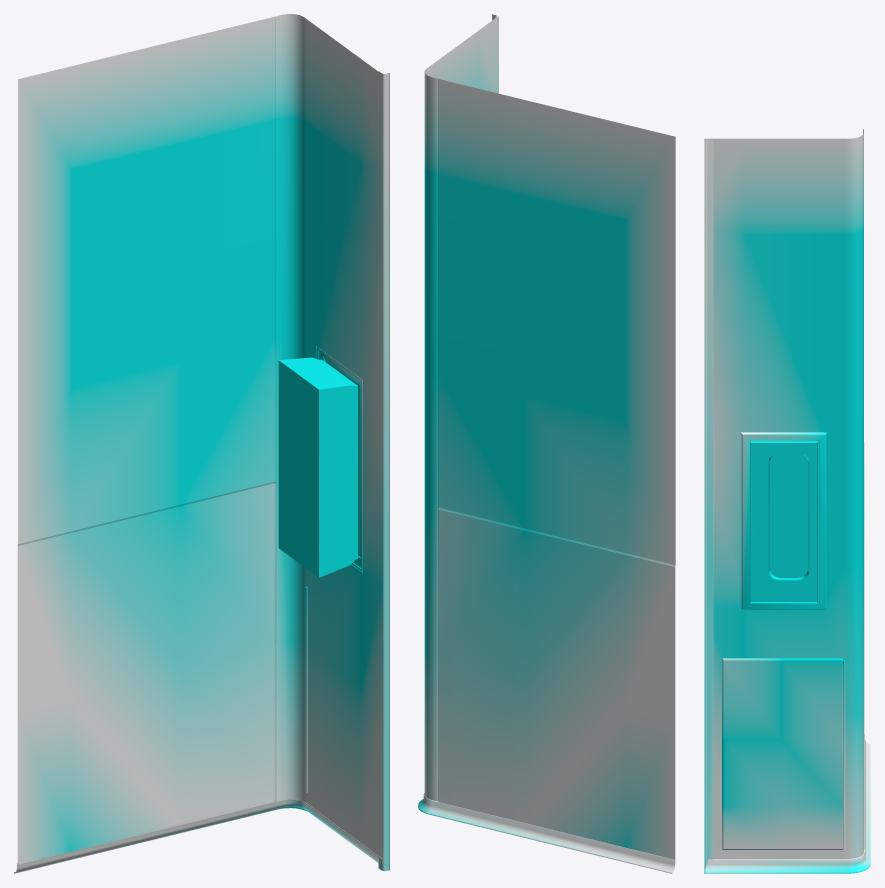
The model's file is SM_int_wall_endcorner_02.fbx.
The picture shows the model from 3 angles, left to right: view 1: azimuth 30°, elevation 25°; view 2: azimuth 150°, elevation 25°; view 3: azimuth 270°, elevation 25°; orthographic projection. The views are drawn at different scales.
Parts seen in each view (by area): view 1: SM_int_wall_endcorner_02; view 2: SM_int_wall_endcorner_02; view 3: SM_int_wall_endcorner_02.
Part boxes in pixels (x1=…): SM_int_wall_endcorner_02: x1=14, y1=14, x2=389, y2=873; SM_int_wall_endcorner_02: x1=418, y1=14, x2=675, y2=873; SM_int_wall_endcorner_02: x1=704, y1=129, x2=870, y2=873.
Size of the model in its own units: 94.98 by 52.09 by 253.
